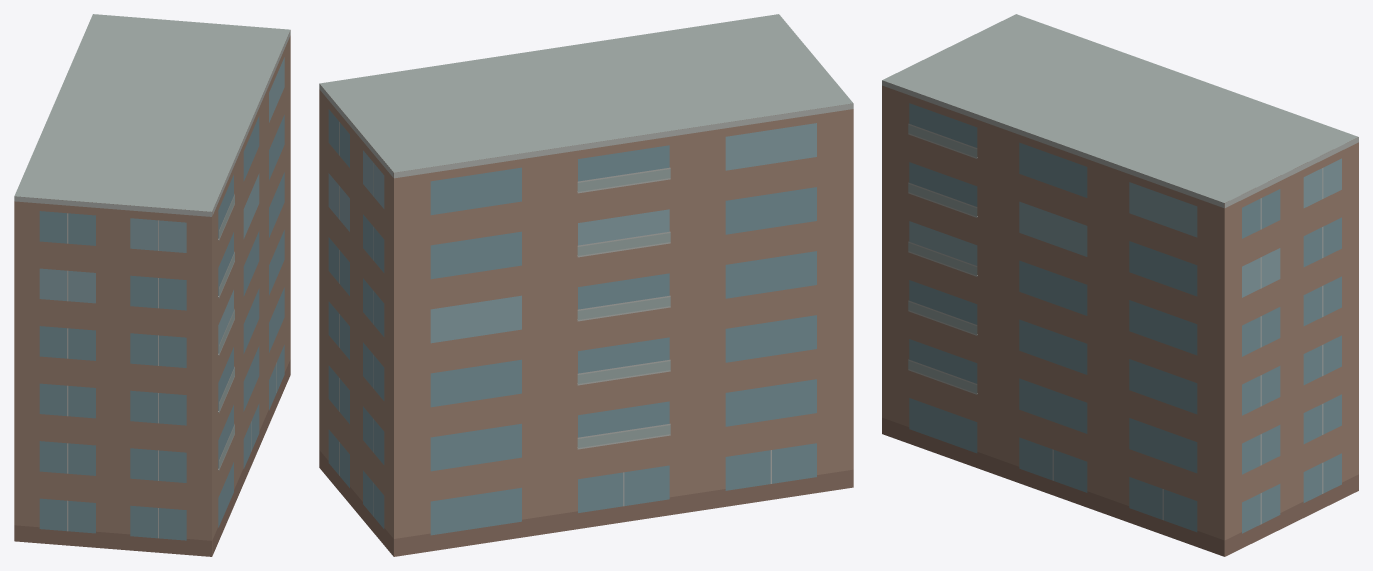
Rendered from survey-upis-32609597.glb.
The picture shows the model from 3 angles, left to right: view 1: azimuth 30°, elevation 25°; view 2: azimuth 150°, elevation 25°; view 3: azimuth 270°, elevation 25°; orthographic projection. The views are drawn at different scales.
Visible parts, largest first — view 1: survey-upis-32609597.tmp; view 2: survey-upis-32609597.tmp; view 3: survey-upis-32609597.tmp.
Boxes of the visible parts, bbox=[...] form: survey-upis-32609597.tmp: bbox=[14, 14, 290, 556]; survey-upis-32609597.tmp: bbox=[319, 14, 853, 556]; survey-upis-32609597.tmp: bbox=[882, 14, 1358, 556].
Bounding box in the file's own units: 18.81 × 16.4 × 20.04.
